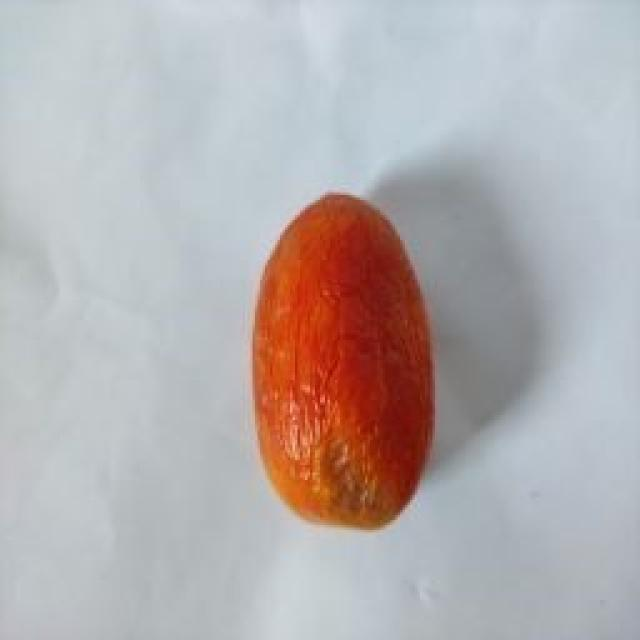overripe: (245, 191, 438, 536)
